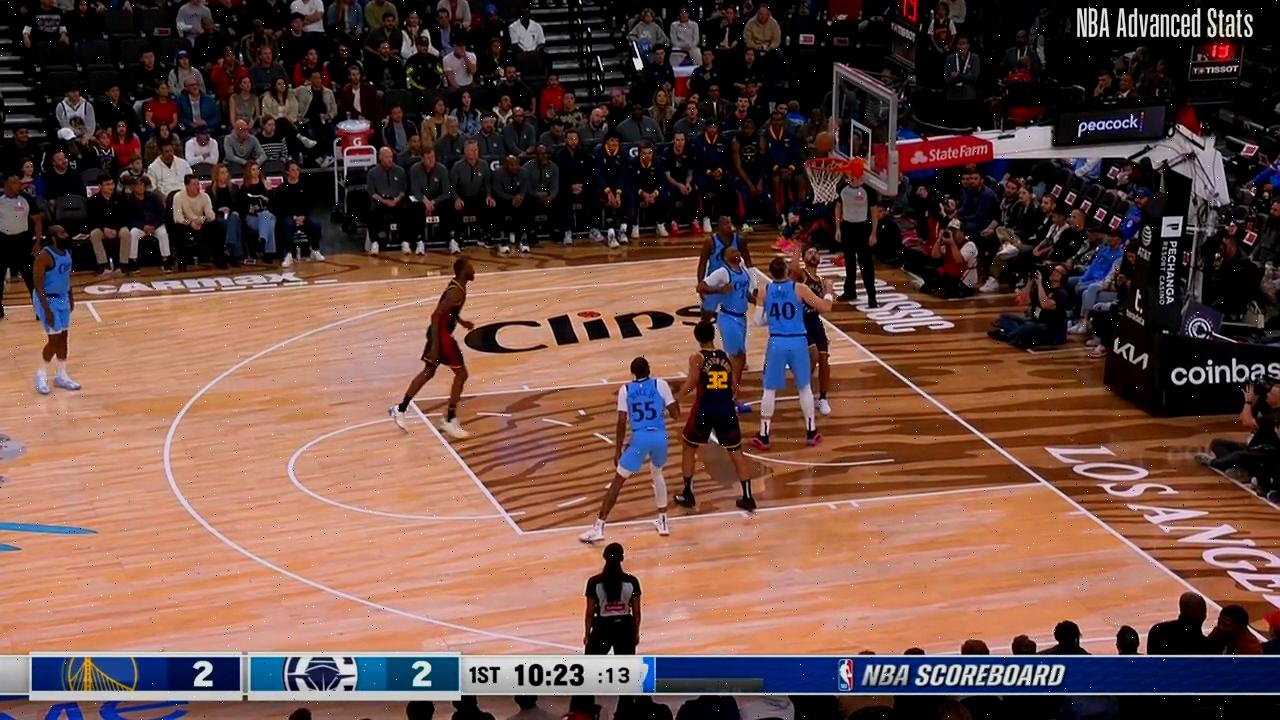basketball: (811, 127, 836, 158)
